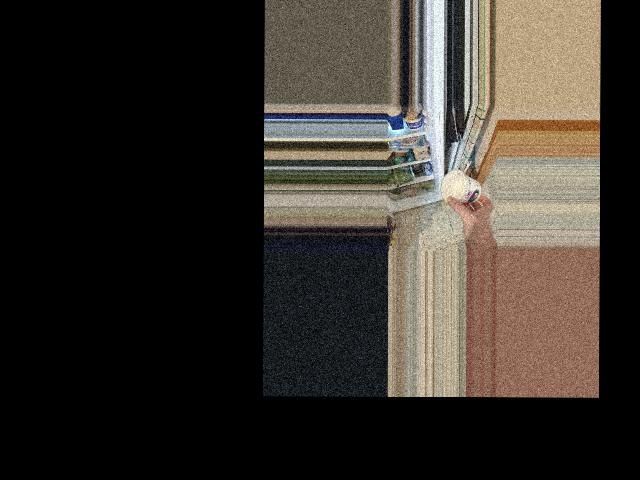cotage: (444, 171, 481, 205)
